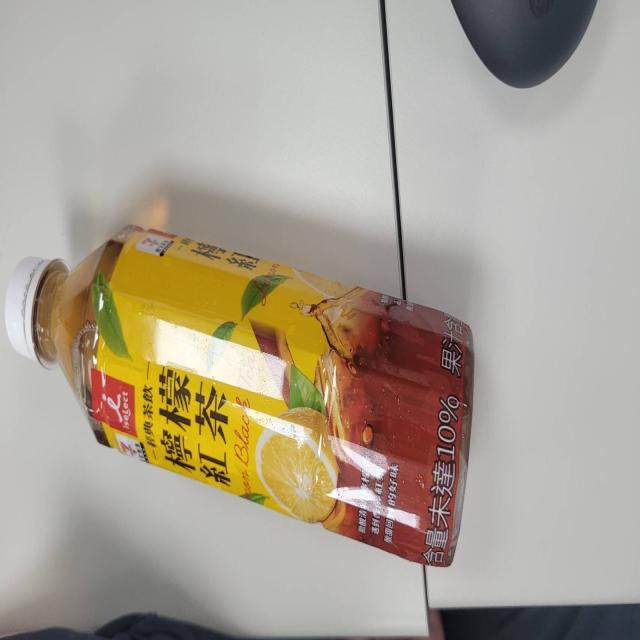PET bottle: (3, 218, 478, 576)
